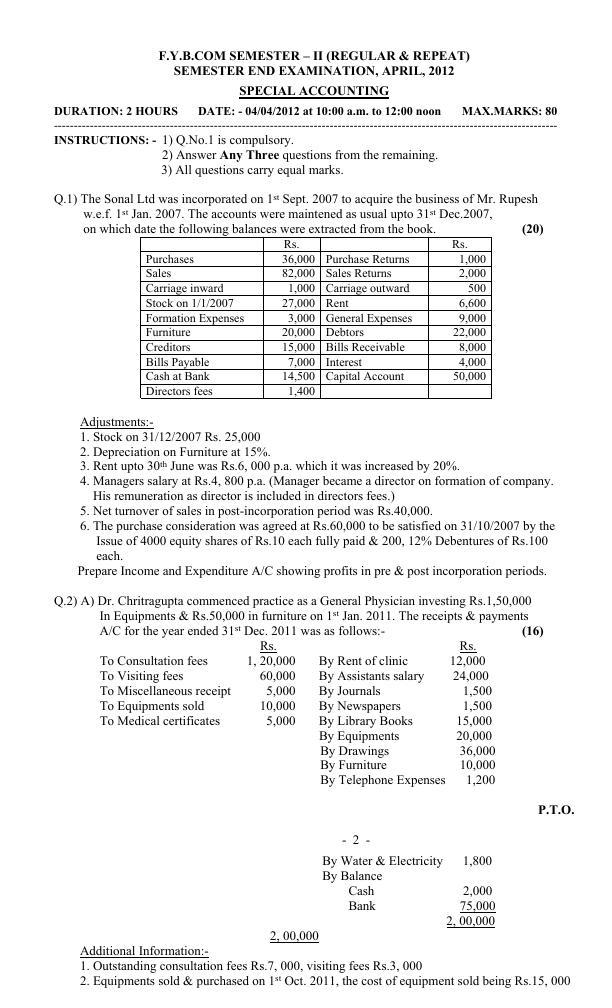table: (130, 238, 498, 401)
text: (78, 417, 558, 582), (318, 640, 501, 790), (73, 946, 580, 992), (50, 593, 549, 637), (51, 192, 555, 235), (98, 639, 301, 732), (50, 132, 448, 177), (318, 852, 503, 929), (153, 46, 475, 78), (51, 101, 562, 118), (235, 84, 393, 101)
